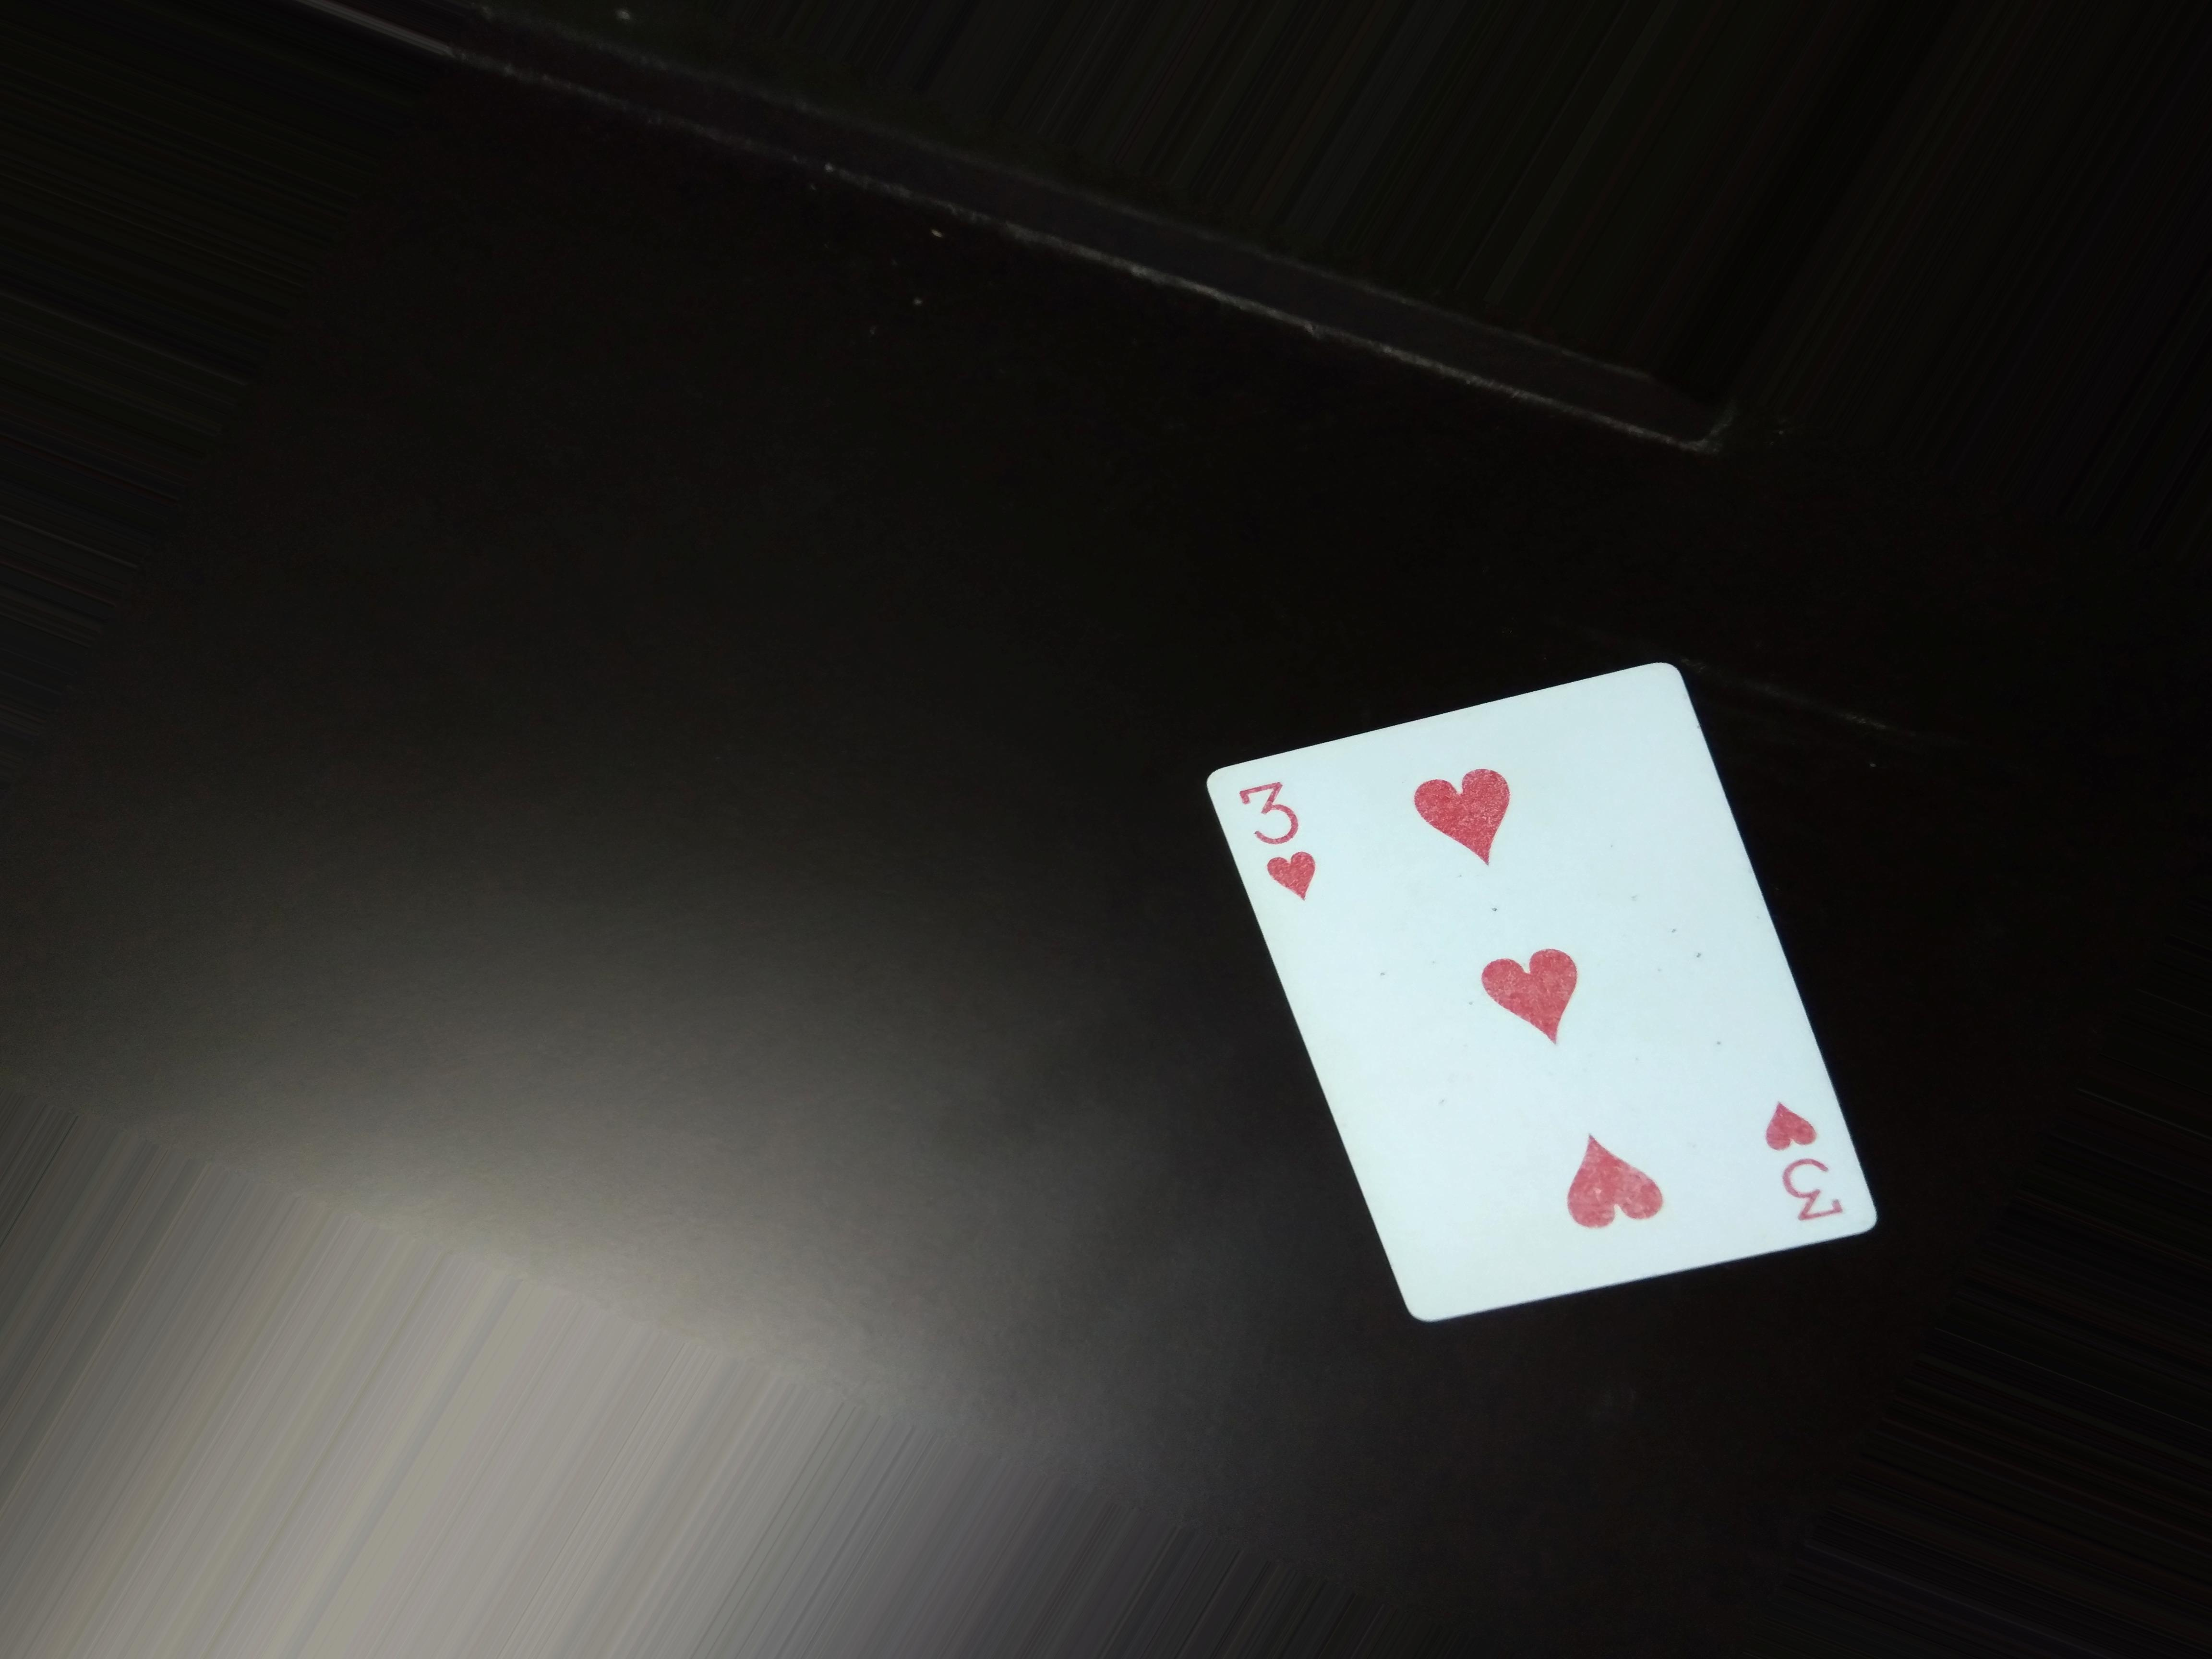3H: (1743, 1082, 1857, 1244)
